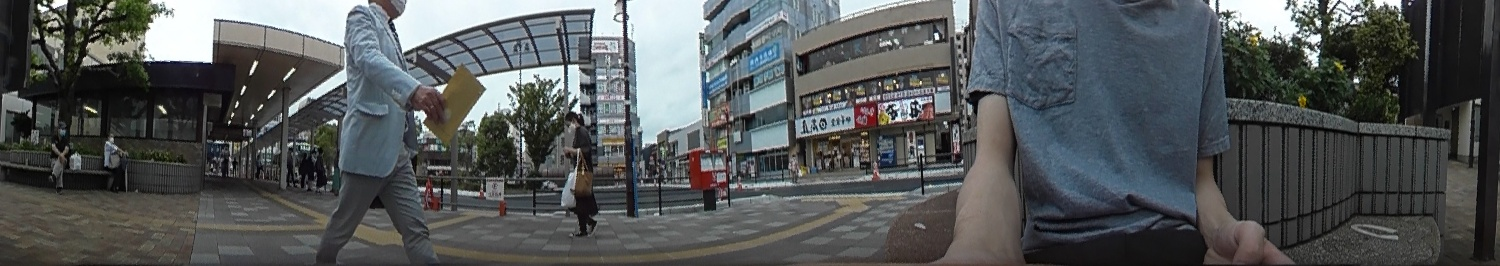difficult_person: (314, 145, 327, 193), (283, 147, 297, 185), (218, 143, 231, 181), (306, 146, 316, 189), (788, 153, 798, 184)
person: (331, 0, 439, 264), (562, 107, 602, 237), (48, 121, 76, 191), (102, 131, 130, 191)
